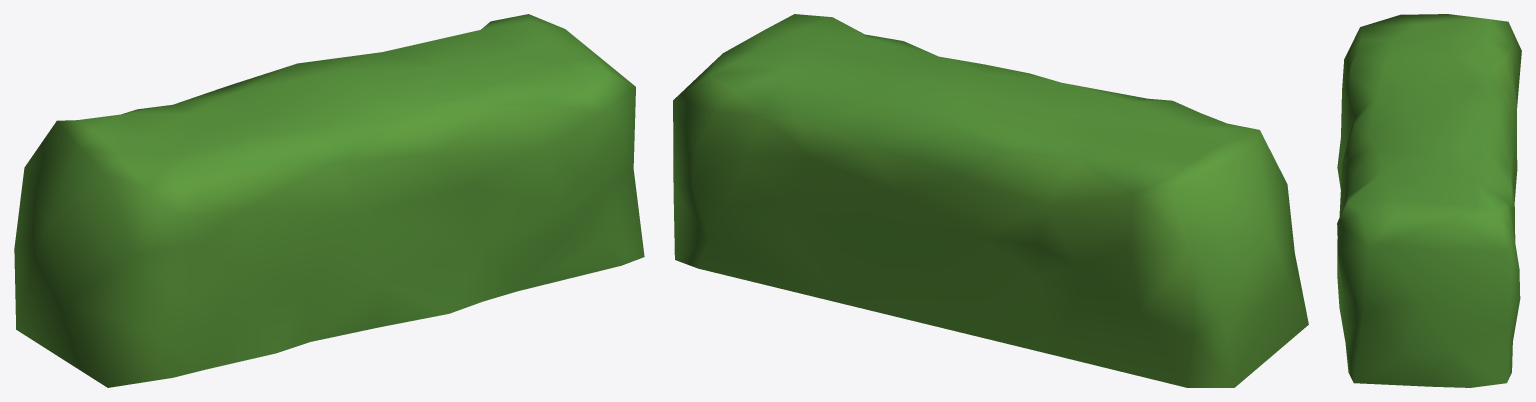
File: bush_001.glb
3 views of the same model, side by side, from view 1: azimuth 30°, elevation 25°; view 2: azimuth 150°, elevation 25°; view 3: azimuth 270°, elevation 25° (orthographic). The views are drawn at different scales.
Visible parts, largest first — view 1: bush_001; view 2: bush_001; view 3: bush_001.
Boxes of the visible parts, box(x1,y1,x2,y2) form: bush_001: box(14, 14, 644, 387); bush_001: box(673, 14, 1308, 387); bush_001: box(1337, 14, 1521, 387).
Bounding box in the file's own units: 3.11 × 1.08 × 1.04.
Materials: 1 (1 with a texture image).
